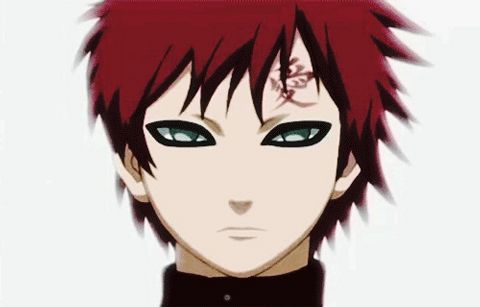gaara: (110, 28, 366, 282)
